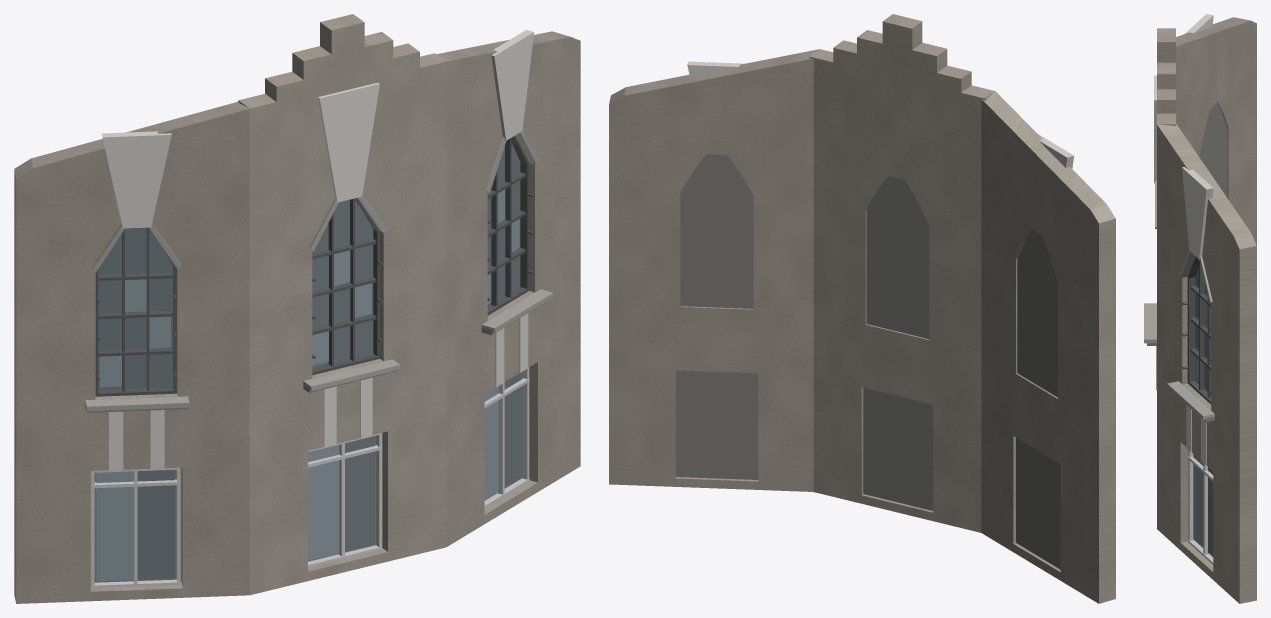
Rendered from guangdong-bank-three-faceted-windows-near.glb.
The picture shows the model from 3 angles, left to right: view 1: azimuth 30°, elevation 25°; view 2: azimuth 150°, elevation 25°; view 3: azimuth 270°, elevation 25°; orthographic projection. The views are drawn at different scales.
Visible parts, largest first — view 1: 广东银行转角塔三面切肩钢窗; view 2: 广东银行转角塔三面切肩钢窗; view 3: 广东银行转角塔三面切肩钢窗.
Boxes of the visible parts, <box> form: 广东银行转角塔三面切肩钢窗: <box>14,14,580,603</box>; 广东银行转角塔三面切肩钢窗: <box>609,14,1115,603</box>; 广东银行转角塔三面切肩钢窗: <box>1144,14,1256,603</box>.
Bounding box in the file's own units: 6.9 × 6.36 × 1.43.
Materials: 9 (1 with a texture image).
